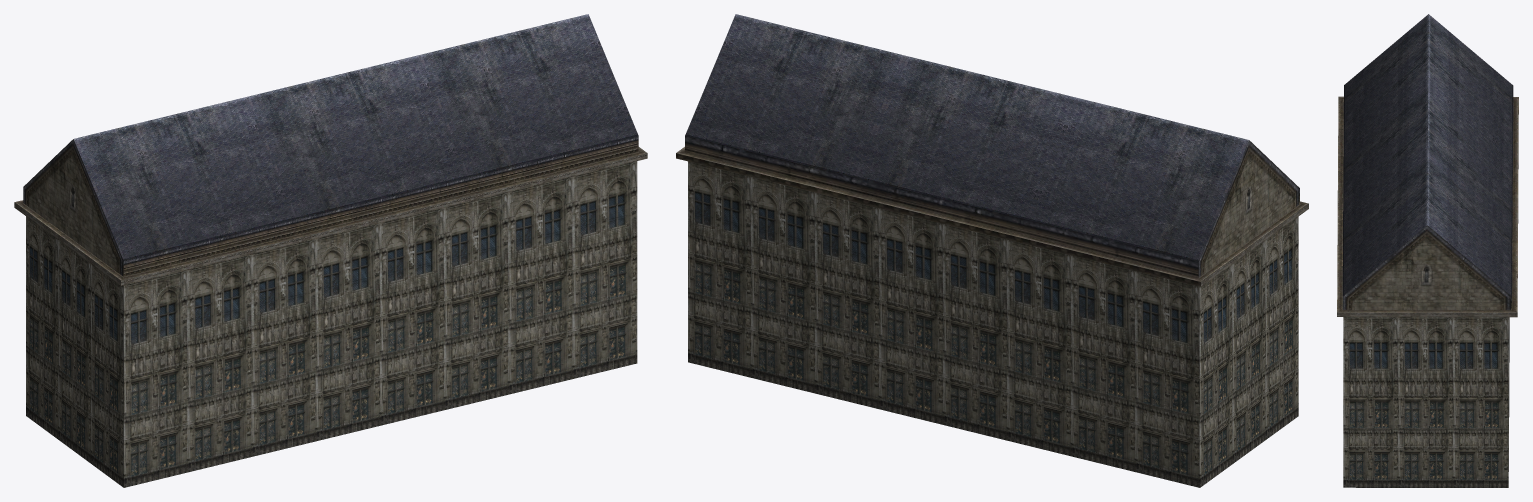
File: SM_EN_2010_fangzi02.FBX
3 views of the same model, side by side, from view 1: azimuth 30°, elevation 25°; view 2: azimuth 150°, elevation 25°; view 3: azimuth 270°, elevation 25° (orthographic). The views are drawn at different scales.
Parts seen in each view (by area): view 1: SM_EN_2010_fangzi02; view 2: SM_EN_2010_fangzi02; view 3: SM_EN_2010_fangzi02.
Part boxes in pixels (x1,y1,x2,y2): SM_EN_2010_fangzi02: (14, 14, 647, 487); SM_EN_2010_fangzi02: (676, 14, 1308, 487); SM_EN_2010_fangzi02: (1337, 14, 1518, 487).
Size of the model in its own units: 845 by 480 by 300.
